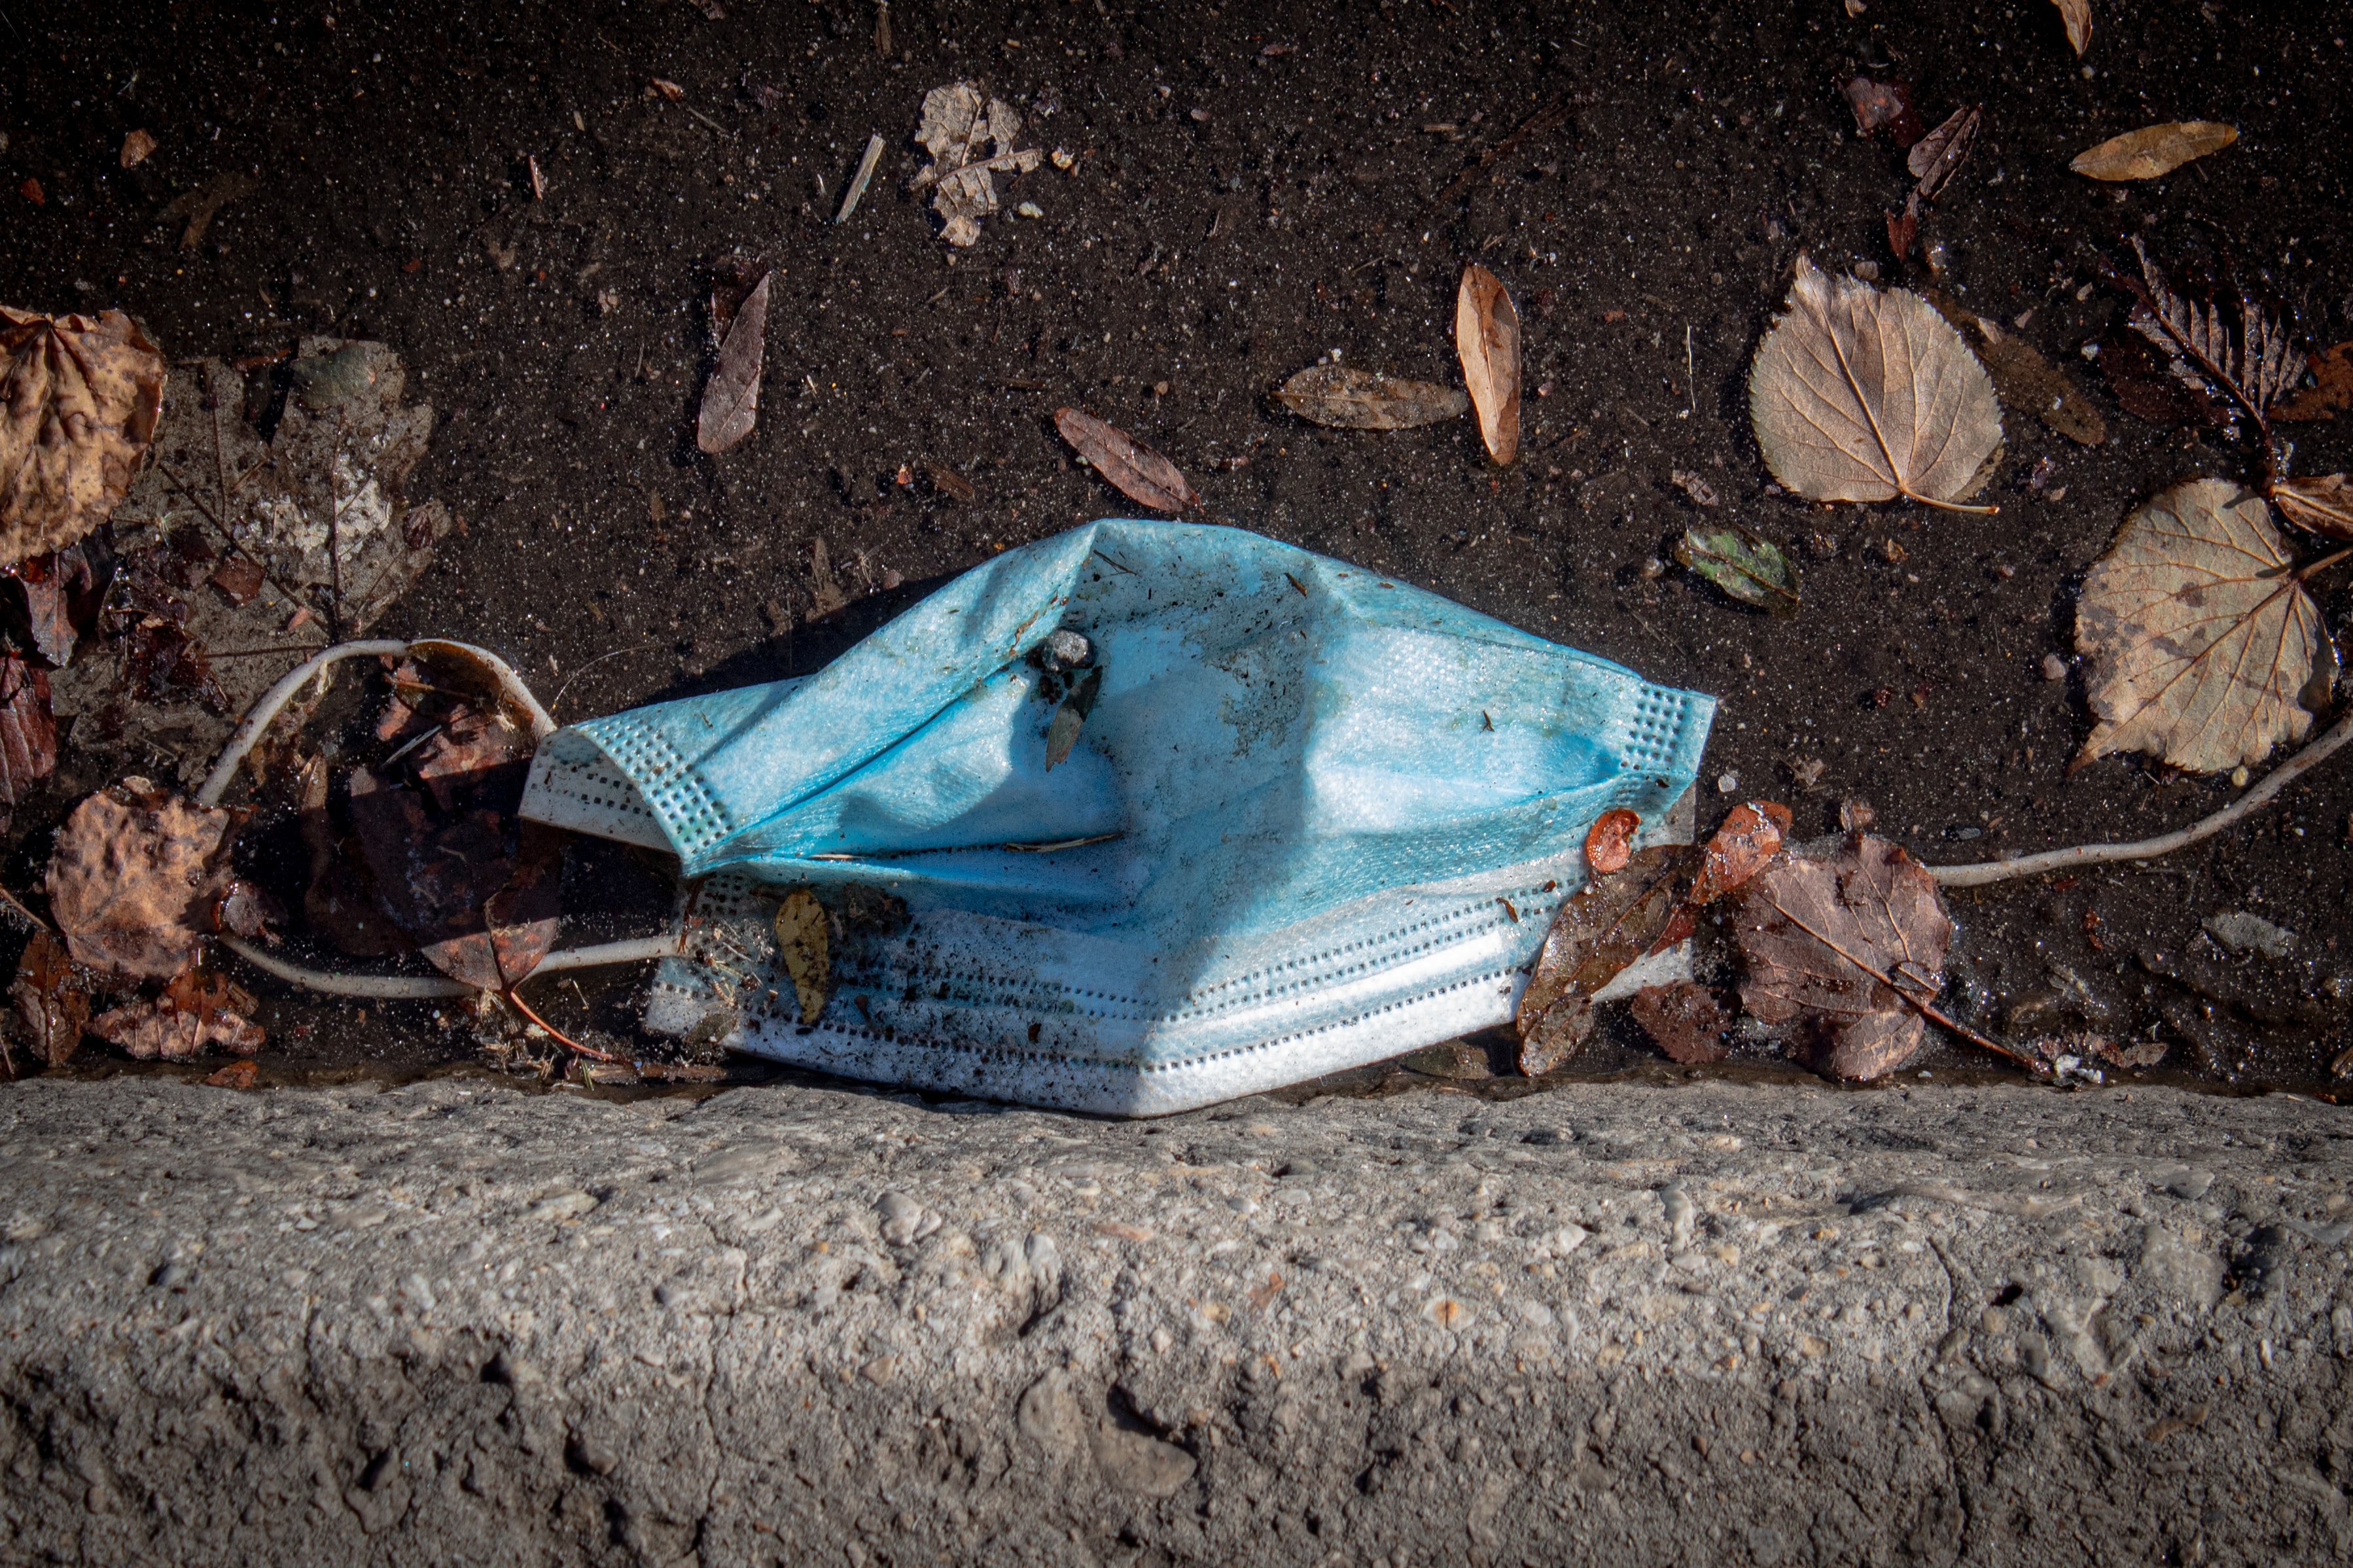mask: (305, 534, 1712, 1092)
